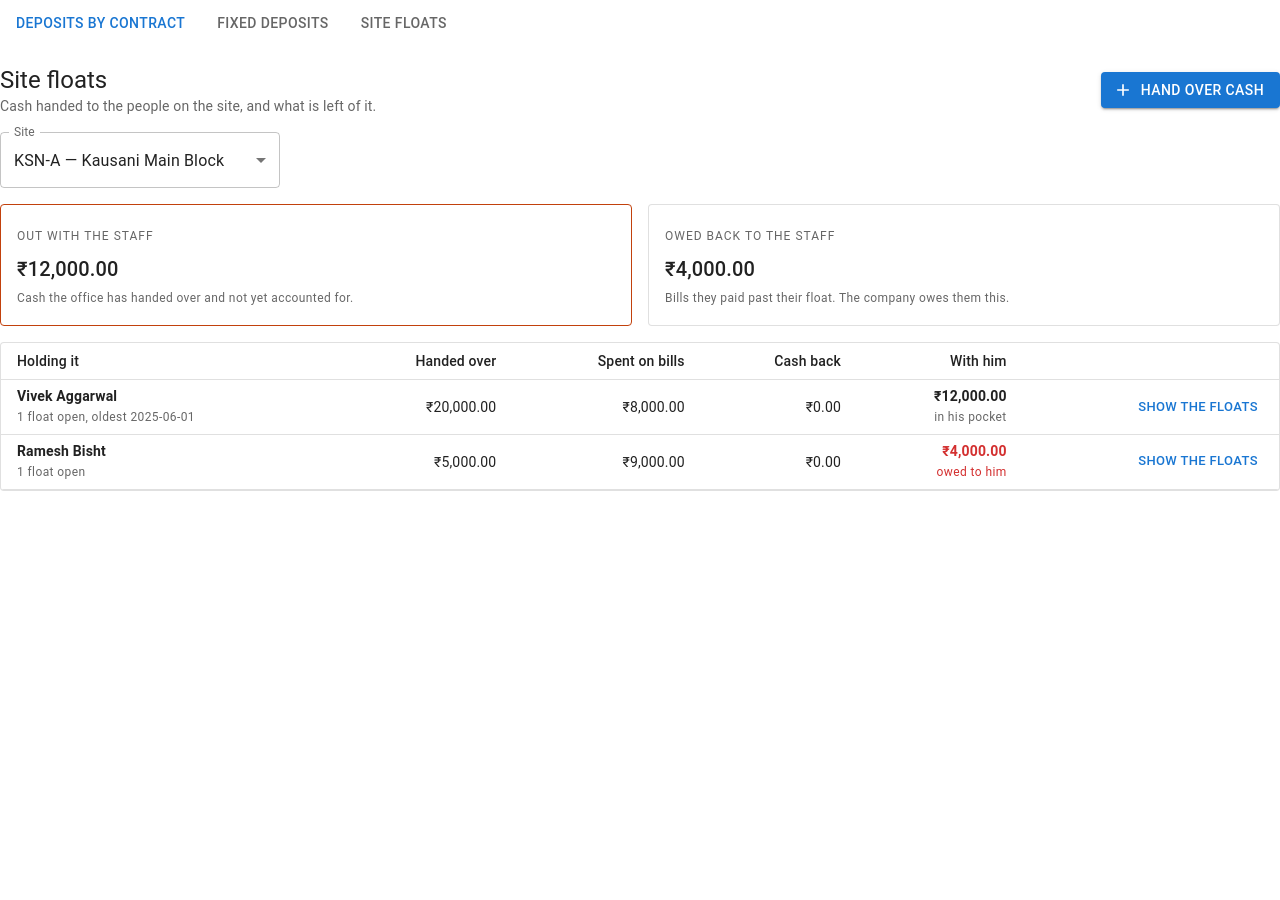
Test: SiteFloatsPage › warns when the person being handed cash is already owed money
Click the button "Hand over cash" at (1190, 90), box [1101,72,1279,108]
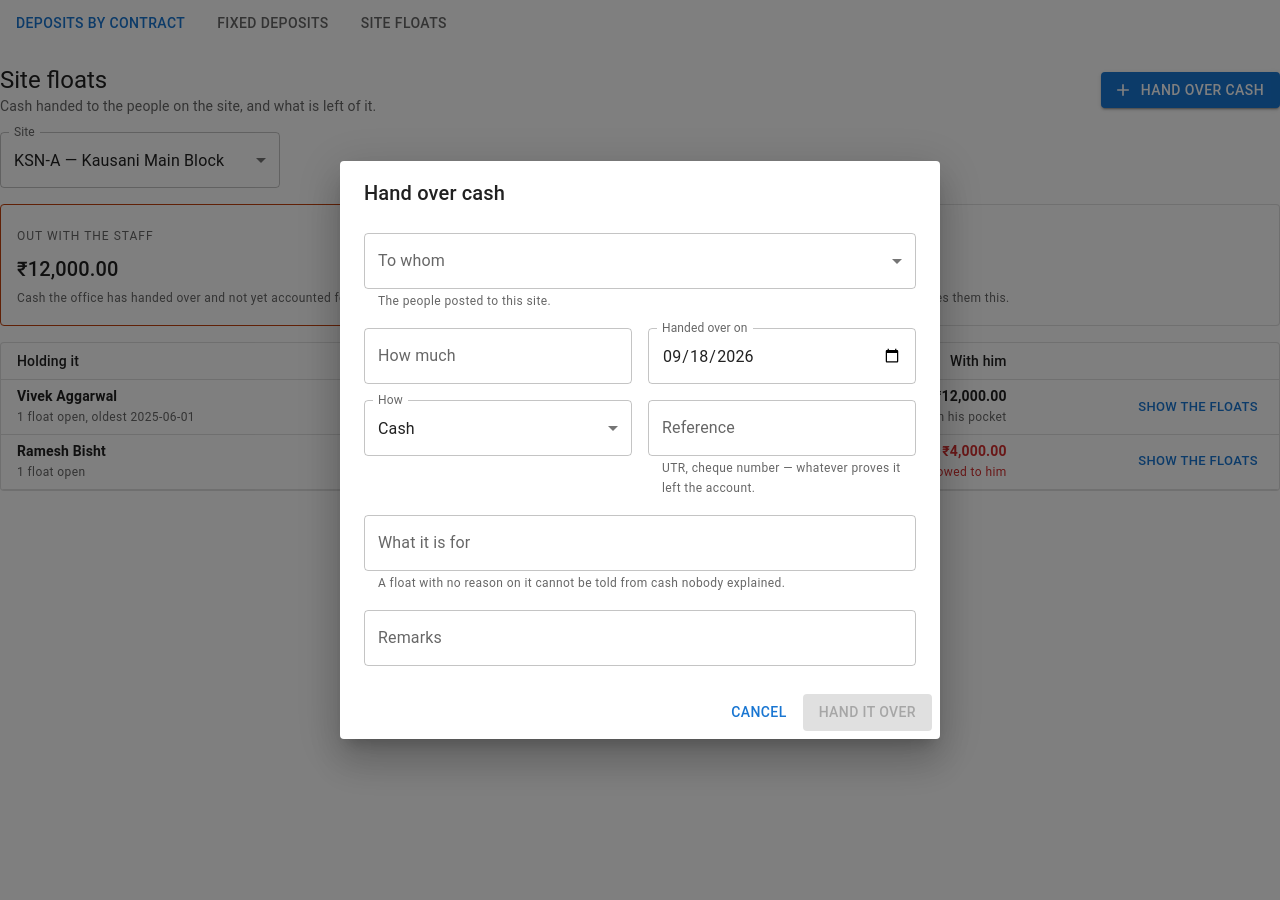
Click the dropdown named "To whom" at (640, 261), box [364,233,916,289]
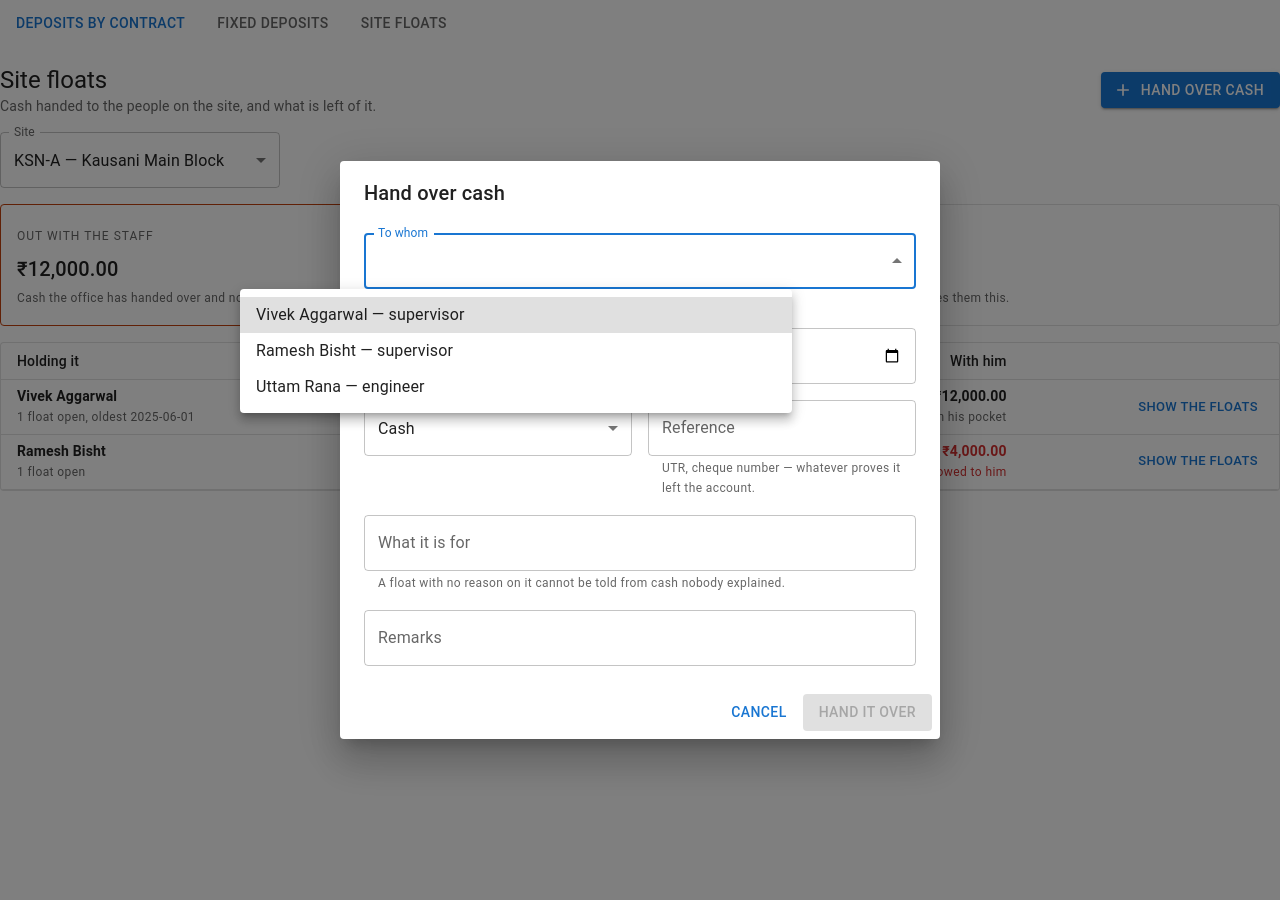
Click the option "Ramesh Bisht — supervisor" at (354, 350), box [256,341,453,360]
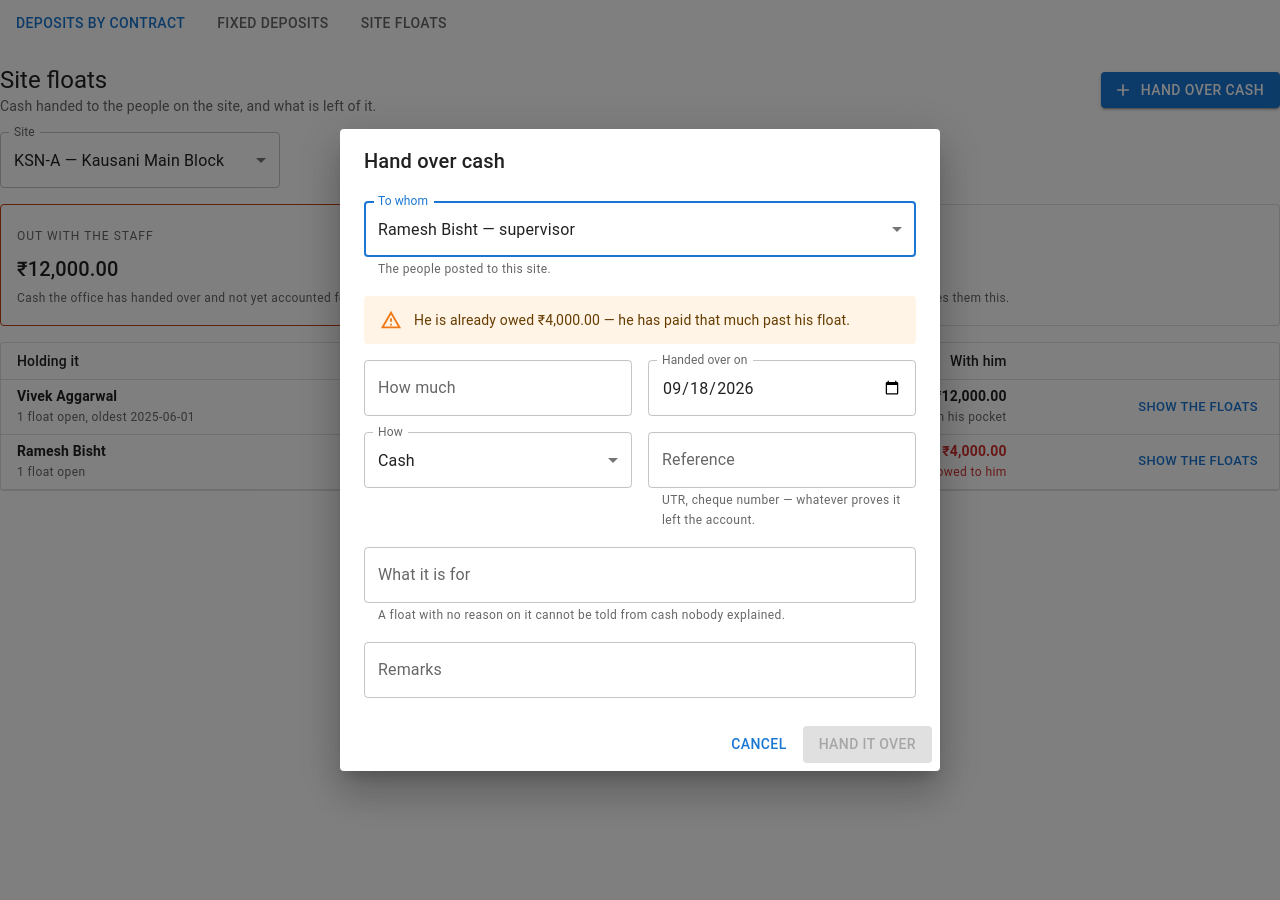
Expected: the text "He is already owed ₹4,000.00" is shown, [414,312,850,328]
